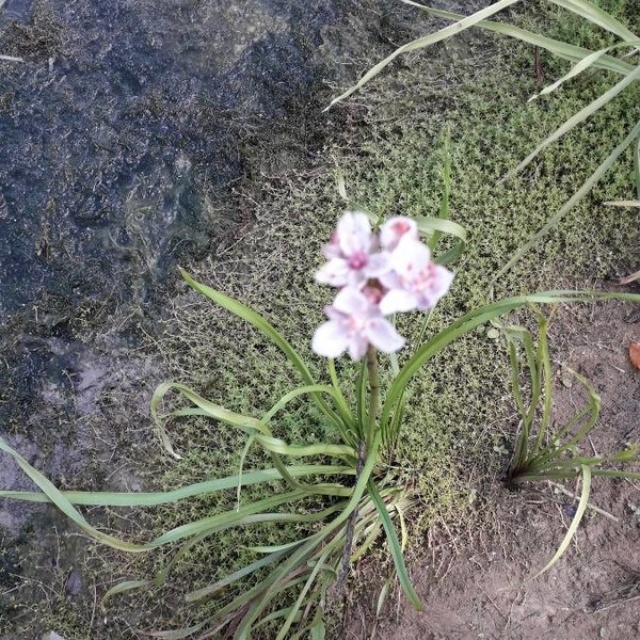obstacle: (209, 176, 450, 591)
